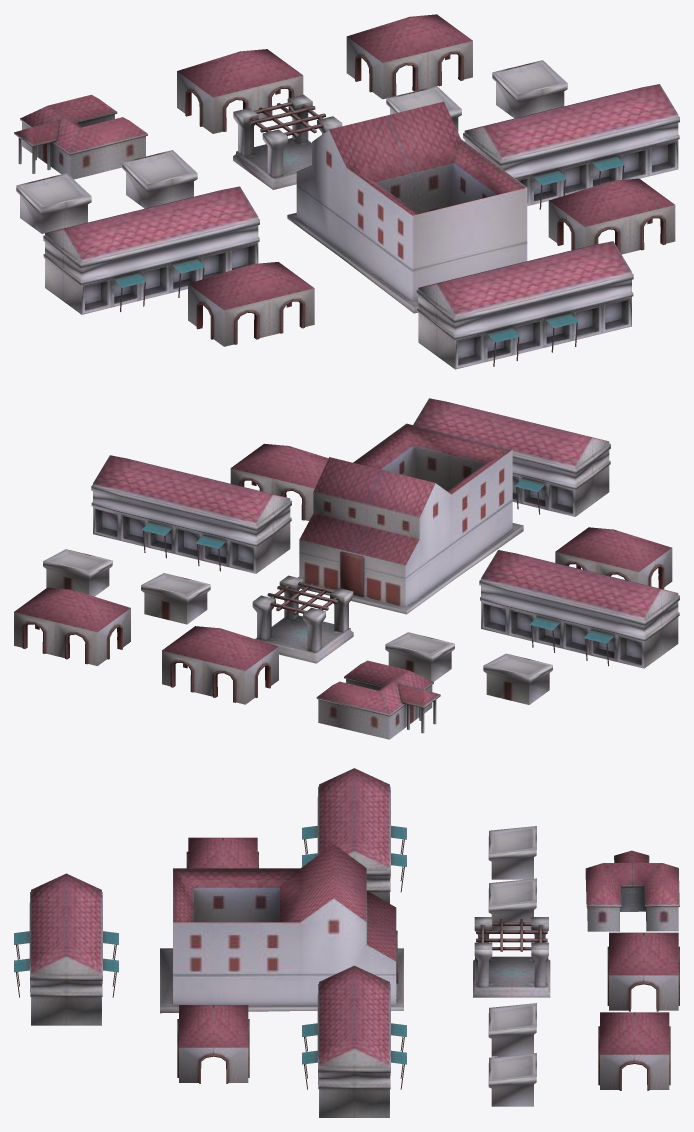
The model's file is city_roman_0.glb.
3 views of the same model, one above another, from view 1: azimuth 30°, elevation 25°; view 2: azimuth 150°, elevation 25°; view 3: azimuth 270°, elevation 25° (orthographic). The views are drawn at different scales.
Parts seen in each view (by area): view 1: low..003, low..010, low., low..005, low.047, low..004, low..011, low..006, low..012, low..001, low..008, low..009 (+2 smaller); view 2: low..003, low..005, low., low..010, low.047, low..012, low..011, low..001, low..004, low..006, low..008, low..002 (+2 smaller); view 3: low..003, low..010, low..005, low., low.047, low..001, low..012, low..011, low..006, low..007, low..008, low..002 (+2 smaller).
Part boxes in pixels (x1,y1,x2,y2): low..003: (287,101,527,313); low..010: (416,241,633,369); low.: (43,186,259,314); low..005: (463,84,679,209); low.047: (14,94,147,179); low..004: (188,262,314,346); low..011: (346,14,472,99); low..006: (548,178,675,254); low..012: (177,49,303,133); low..001: (233,94,342,189); low..008: (16,173,91,233); low..009: (122,150,197,208); low..003: (298,423,523,614); low..005: (91,455,291,573); low.: (479,550,679,668); low..010: (413,398,610,516); low.047: (316,660,440,739); low..012: (162,626,278,704); low..011: (14,587,130,665); low..001: (252,575,353,663); low..004: (555,527,672,589); low..006: (230,443,328,520); low..008: (483,653,552,704); low..002: (141,573,210,624); low..003: (160,844,403,1013); low..010: (14,873,118,1025); low..005: (302,965,406,1117); low.: (302,768,406,903); low.047: (585,850,679,931); low..001: (473,917,550,997); low..012: (607,932,679,1011); low..011: (598,1012,670,1090); low..006: (177,1005,249,1083); low..007: (488,1053,536,1106); low..008: (488,826,536,879); low..002: (488,1003,536,1056).
Size of the model in its own units: 15.81 by 2.98 by 15.77.
Materials: 2 (2 with a texture image).
